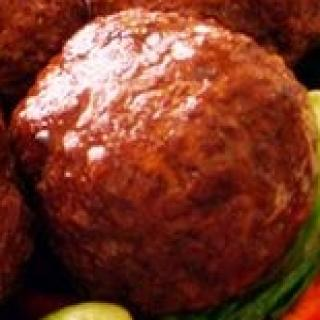meatball: (2, 0, 320, 320)
